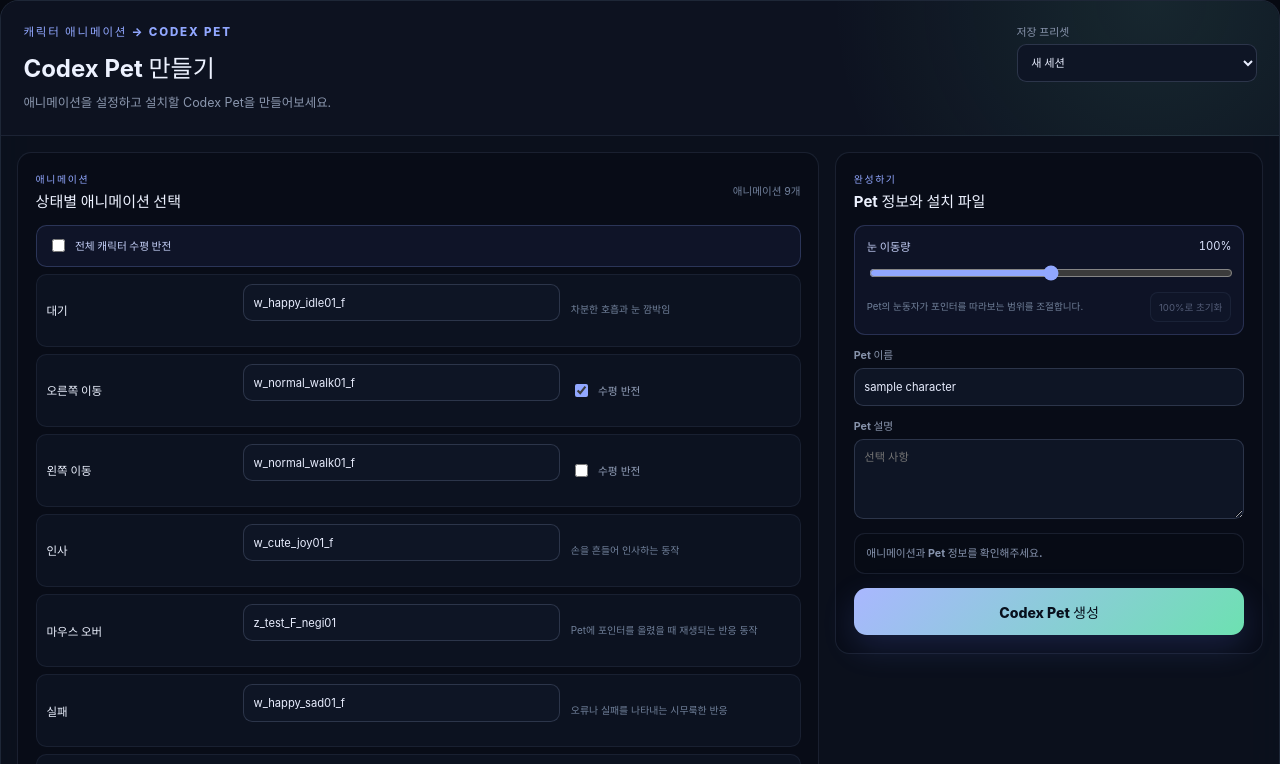
CodexPetBuilder › 상태 animation을 대소문자 없이 검색하고 확정 전에는 mapping을 변경하지 않는다
The width and height of the screenshot is (1280, 764).
Type "NORMAL_WALK" into the dropdown named "대기 애니메이션" next to "차분한 호흡과 눈 깜박임" at (402, 302), box top-left (243, 284), bottom-right (560, 321)
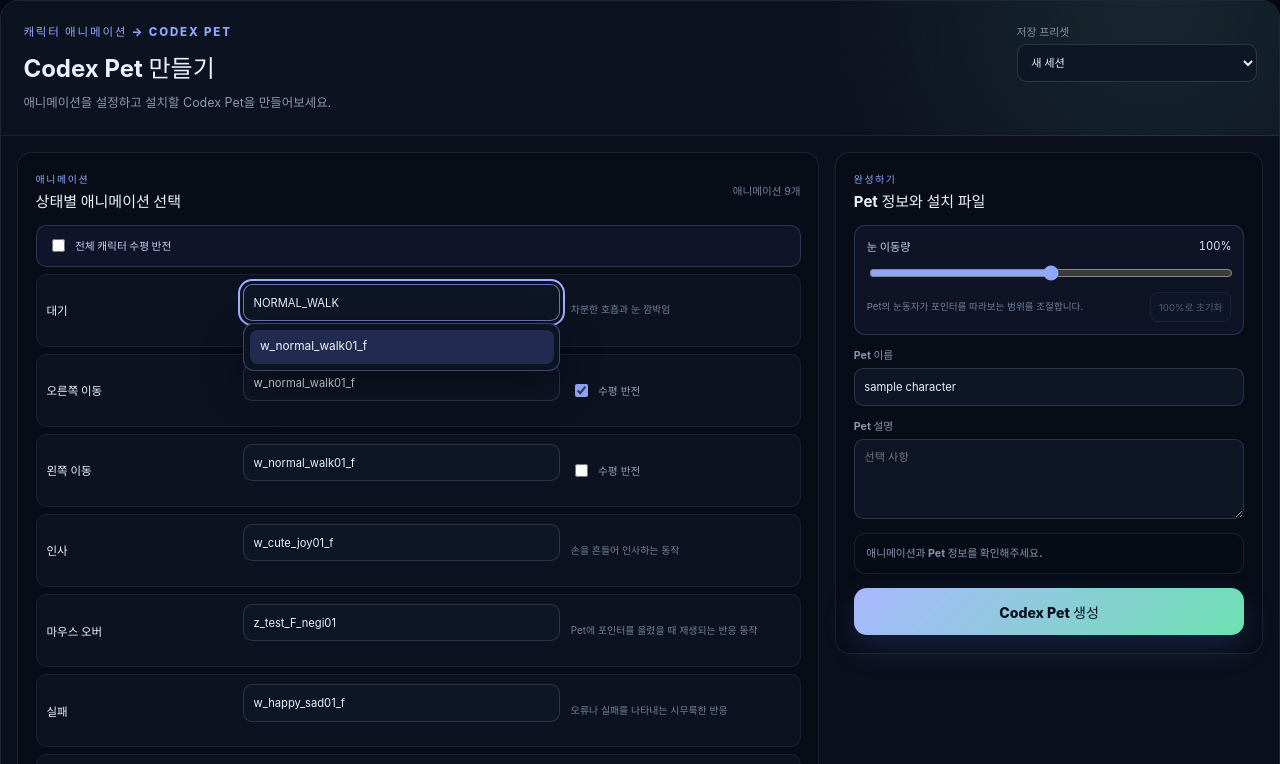
Expected: the number of options is 1, top-left (250, 330), bottom-right (554, 364)
Press Enter
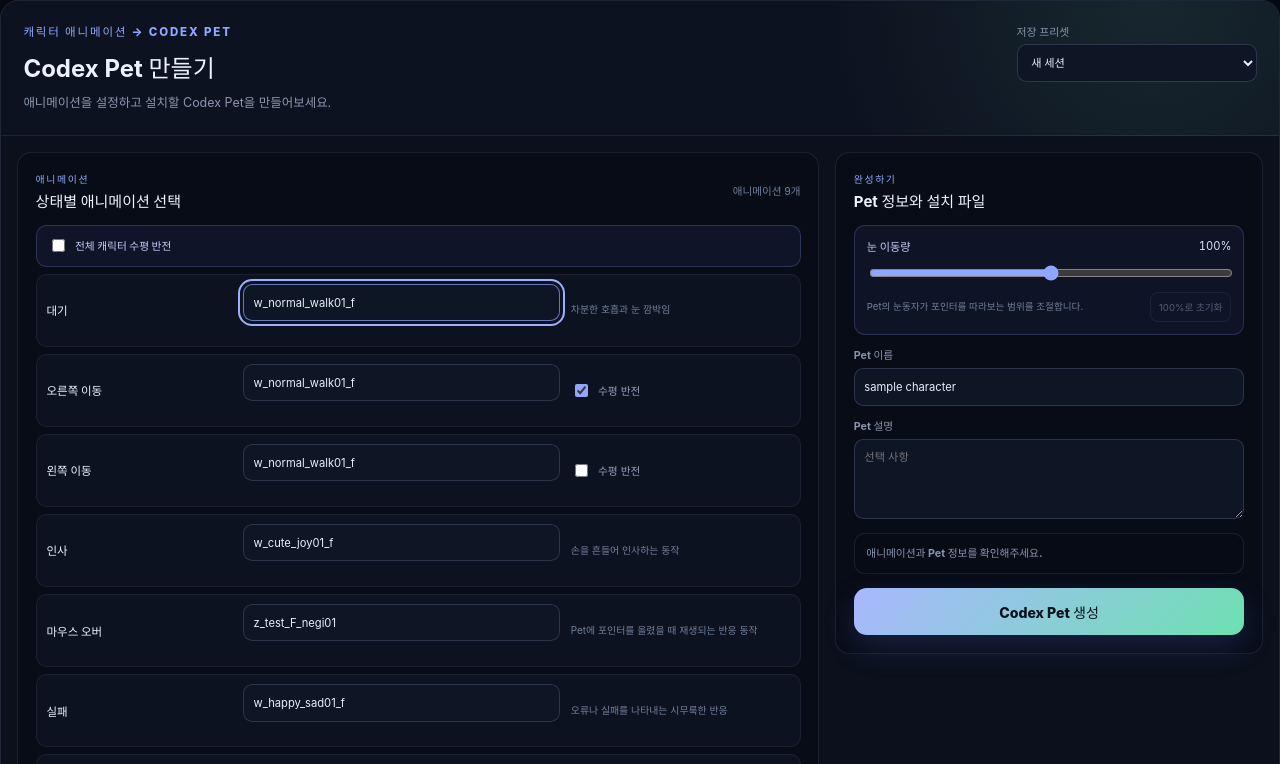
Expected: the dropdown named "대기 애니메이션" next to "차분한 호흡과 눈 깜박임" holds "w_normal_walk01_f", top-left (243, 284), bottom-right (560, 321)
